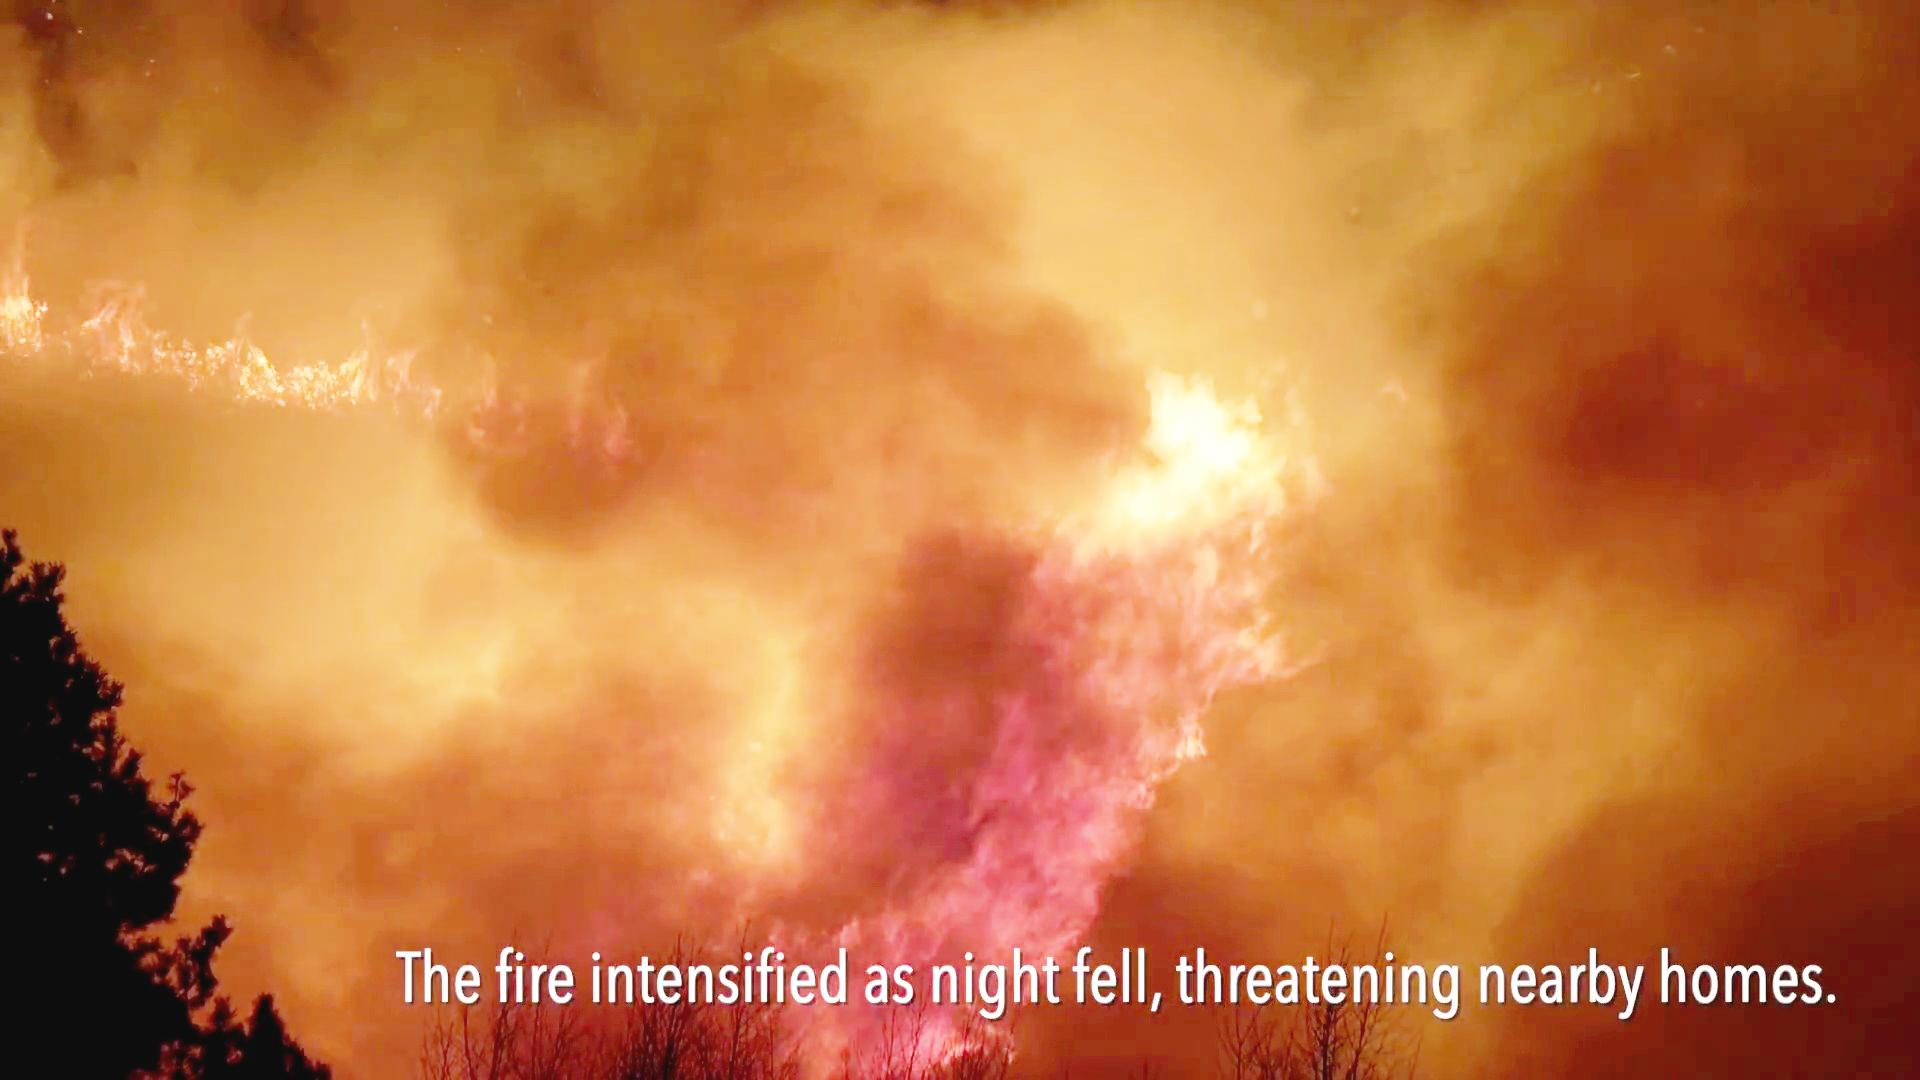fire: (971, 356, 1288, 884), (1087, 376, 1275, 521)
